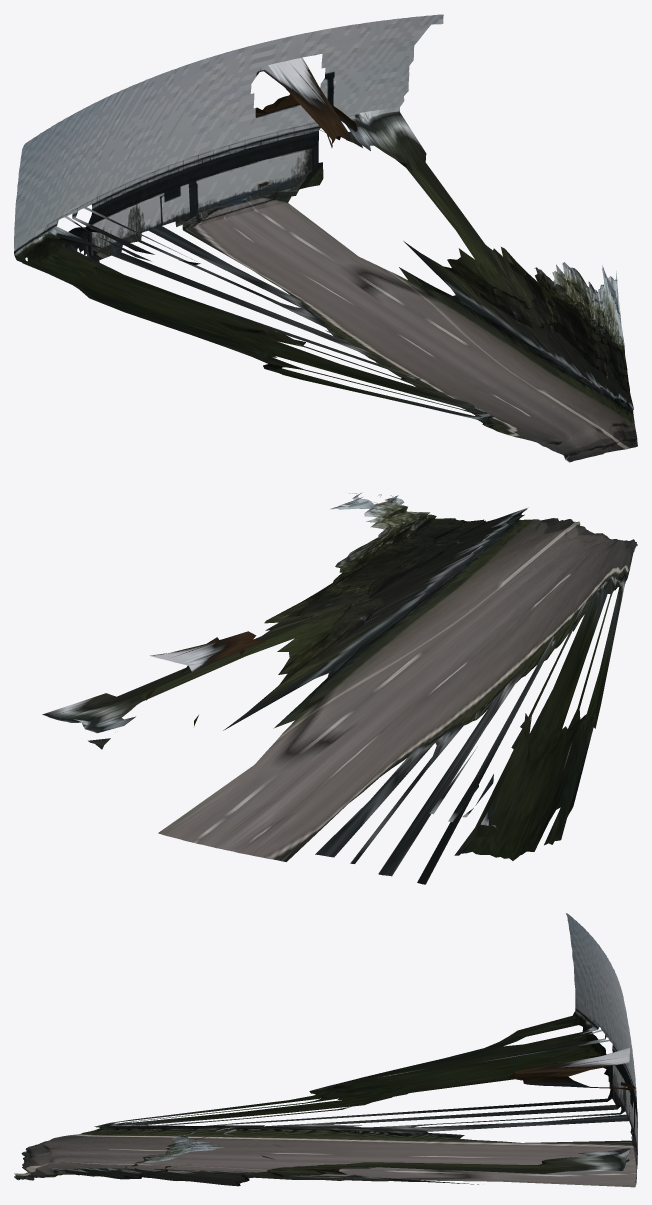
The picture shows the model from 3 angles, top to bottom: view 1: azimuth 30°, elevation 25°; view 2: azimuth 150°, elevation 25°; view 3: azimuth 270°, elevation 25°; orthographic projection. The views are drawn at different scales.
Parts seen in each view (by area): view 1: defaultobject; view 2: defaultobject; view 3: defaultobject.
Part boxes in pixels (x1,y1,x2,y2): defaultobject: (14,14,637,462); defaultobject: (42,493,637,884); defaultobject: (14,913,637,1187).
Size of the model in its own units: 32.92 by 12.34 by 44.74.
1 material, 1 textured.
